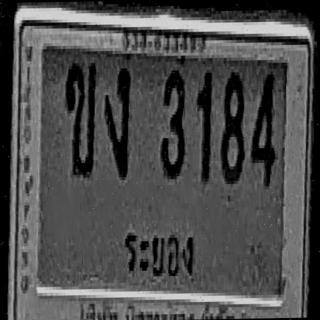A02: (64, 58, 98, 176)
A07: (104, 62, 132, 177)
N01: (197, 70, 214, 181)
N03: (160, 67, 186, 176)
N04: (250, 68, 276, 186)
N08: (220, 70, 245, 182)
P53: (118, 215, 199, 290)
